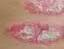plaque psoriasis: (5, 19, 64, 49), (21, 0, 64, 16)
